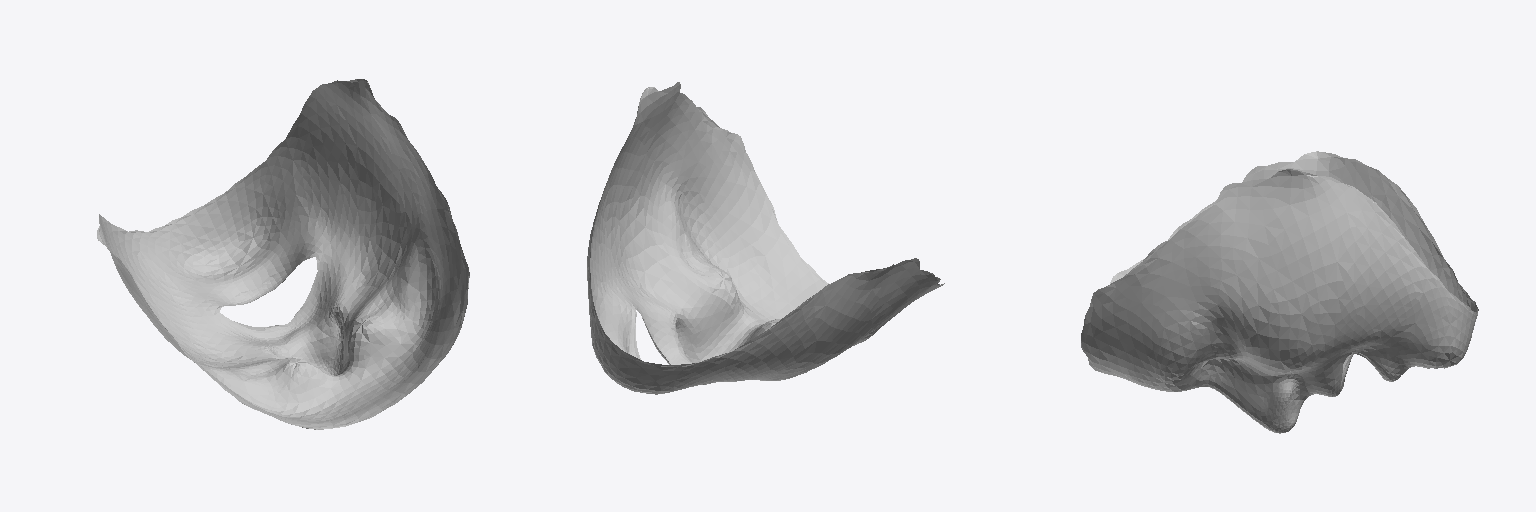
File: face_gab_sfm85.obj
3 views of the same model, side by side, from view 1: azimuth 30°, elevation 25°; view 2: azimuth 150°, elevation 25°; view 3: azimuth 270°, elevation 25° (orthographic).
Bounding box in the file's own units: 166 × 163 × 205.